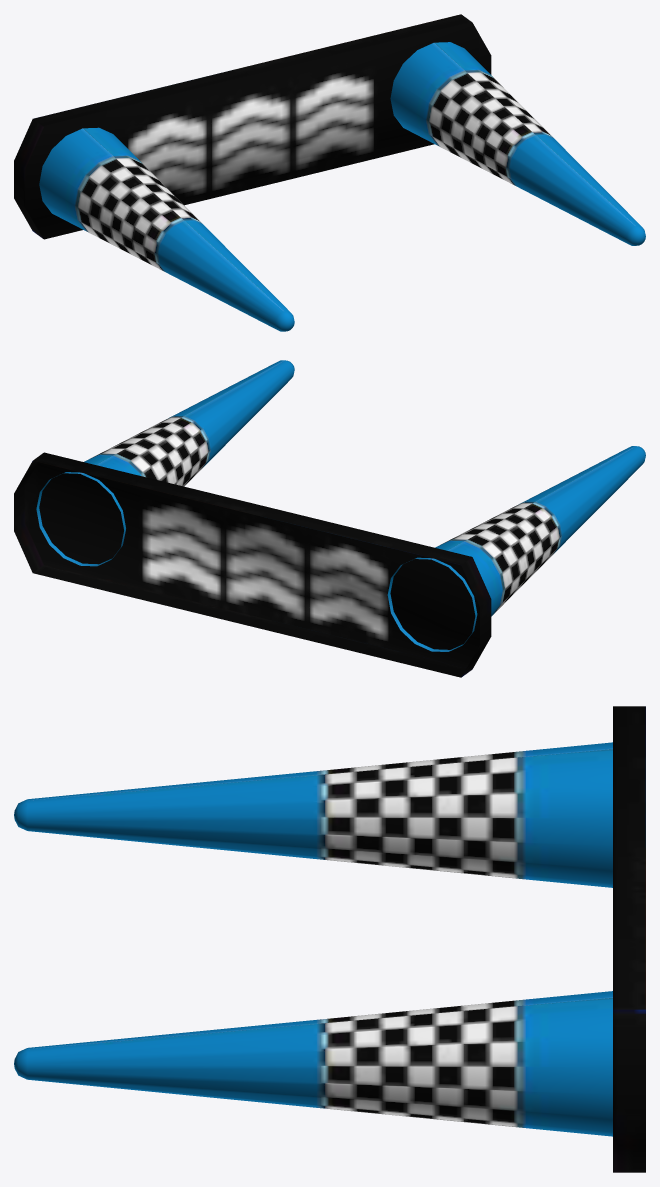
File: PylonRace Blue.fbx
The picture shows the model from 3 angles, top to bottom: view 1: azimuth 30°, elevation 25°; view 2: azimuth 150°, elevation 25°; view 3: azimuth 270°, elevation 25°; orthographic projection. The views are drawn at different scales.
Visible parts, largest first — view 1: PylonRace Blue; view 2: PylonRace Blue; view 3: PylonRace Blue.
Part boxes in pixels (bbox=[...]): PylonRace Blue: bbox=[14, 14, 645, 331]; PylonRace Blue: bbox=[14, 360, 645, 677]; PylonRace Blue: bbox=[14, 706, 645, 1172].
Size of the model in its own units: 1061 by 245 by 859.
1 material, 1 textured.
